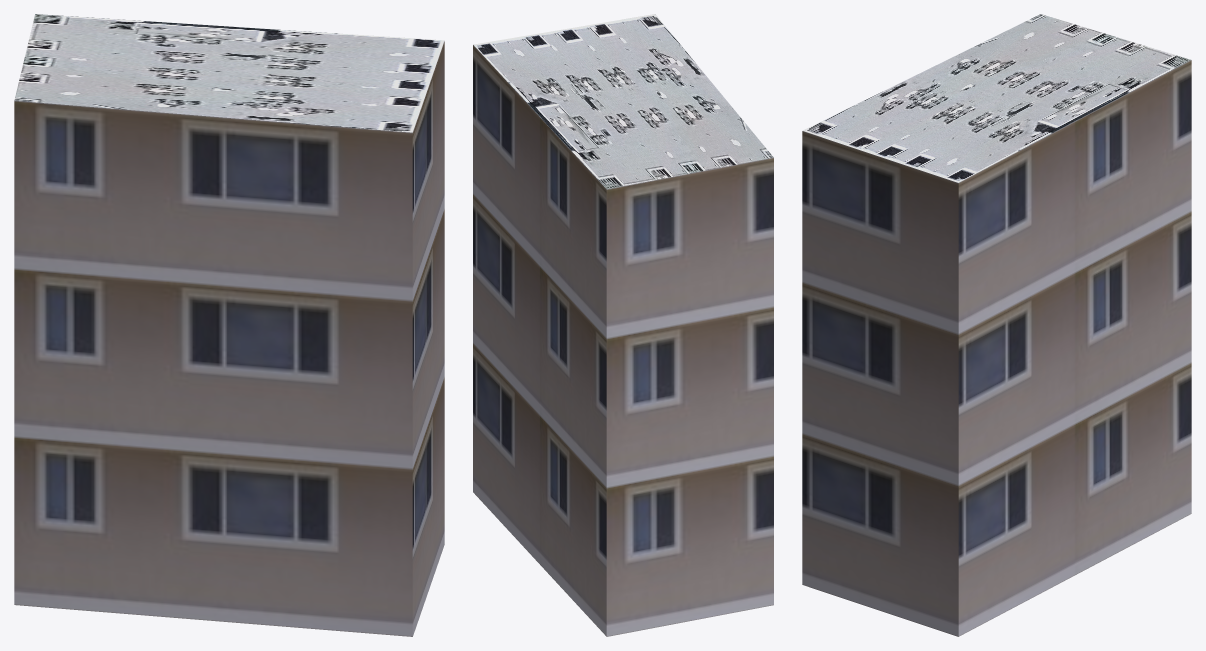
The model's file is ResTex__3703.fbx.
3 renders of one model, left to right at view 1: azimuth 30°, elevation 25°; view 2: azimuth 150°, elevation 25°; view 3: azimuth 270°, elevation 25°, orthographic. The views are drawn at different scales.
Visible parts, largest first — view 1: CityEngineMaterial_21_m, CityEngineMaterial_8_m; view 2: CityEngineMaterial_21_m, CityEngineMaterial_8_m; view 3: CityEngineMaterial_21_m, CityEngineMaterial_8_m.
Part boxes in pixels (x1,y1,x2,y2): CityEngineMaterial_21_m: (14,41,444,636); CityEngineMaterial_8_m: (14,14,444,132); CityEngineMaterial_21_m: (473,45,773,636); CityEngineMaterial_8_m: (473,14,773,189); CityEngineMaterial_21_m: (802,60,1191,636); CityEngineMaterial_8_m: (803,14,1190,182).
Size of the model in its own units: 7.18 by 9 by 6.99.
2 materials, 2 textured.
